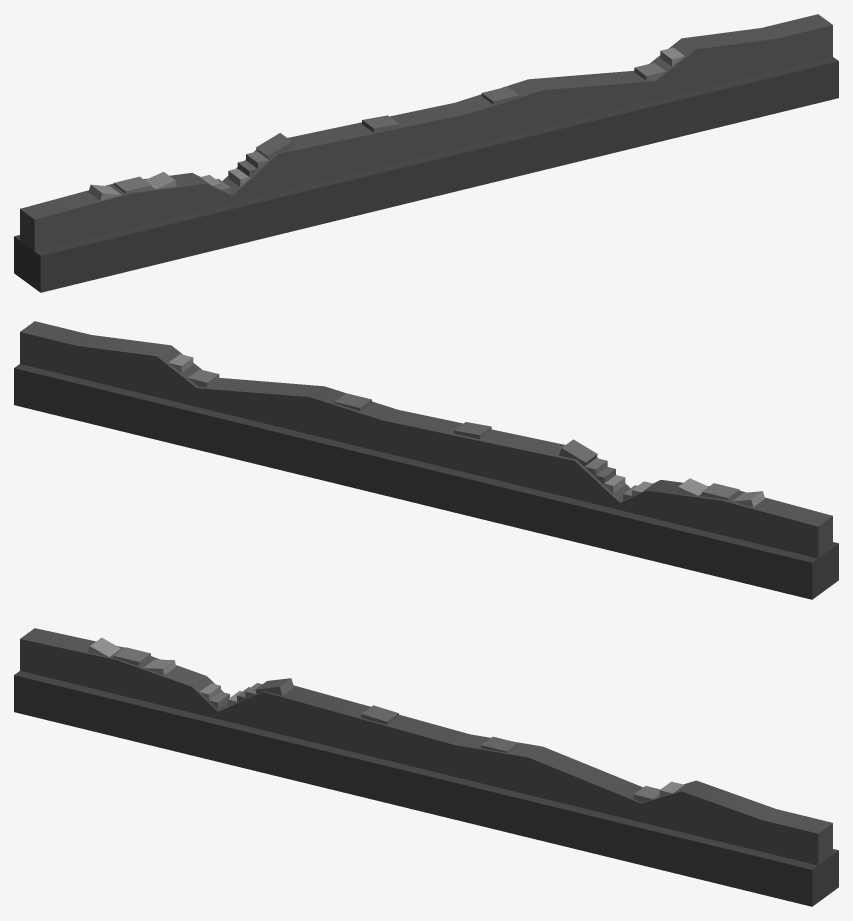
Rendered from Lesswall2.fbx.
3 views of the same model, one above another, from view 1: azimuth 30°, elevation 25°; view 2: azimuth 150°, elevation 25°; view 3: azimuth 330°, elevation 25° (orthographic).
Visible parts, largest first — view 1: LessWall2; view 2: LessWall2; view 3: LessWall2.
Part boxes in pixels (<box>): LessWall2: <box>14,14,838,292</box>; LessWall2: <box>14,321,838,599</box>; LessWall2: <box>14,628,838,906</box>.
Size of the model in its own units: 31 by 3.09 by 1.8.
